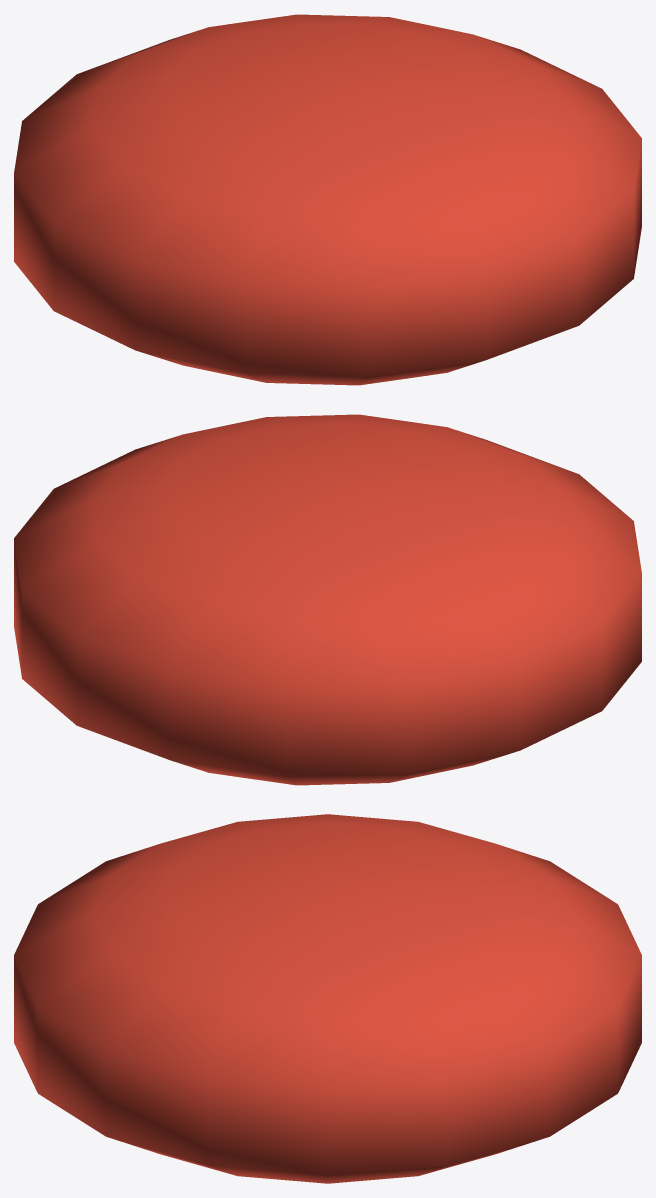
File: ibuprofen.glb
3 views of the same model, one above another, from view 1: azimuth 30°, elevation 25°; view 2: azimuth 150°, elevation 25°; view 3: azimuth 270°, elevation 25° (orthographic).
Visible parts, largest first — view 1: ibuprofen pill; view 2: ibuprofen pill; view 3: ibuprofen pill.
Boxes of the visible parts, x1,y1,x2,y2 form: ibuprofen pill: [14, 14, 641, 385]; ibuprofen pill: [14, 414, 641, 785]; ibuprofen pill: [14, 814, 641, 1183].
Size of the model in its own units: 0.0102 by 0.00424 by 0.0102.
